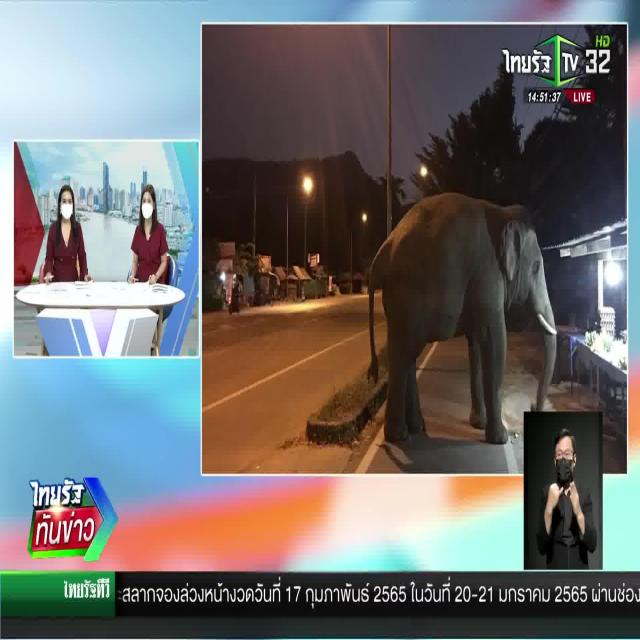Elephant: (374, 186, 556, 373)
